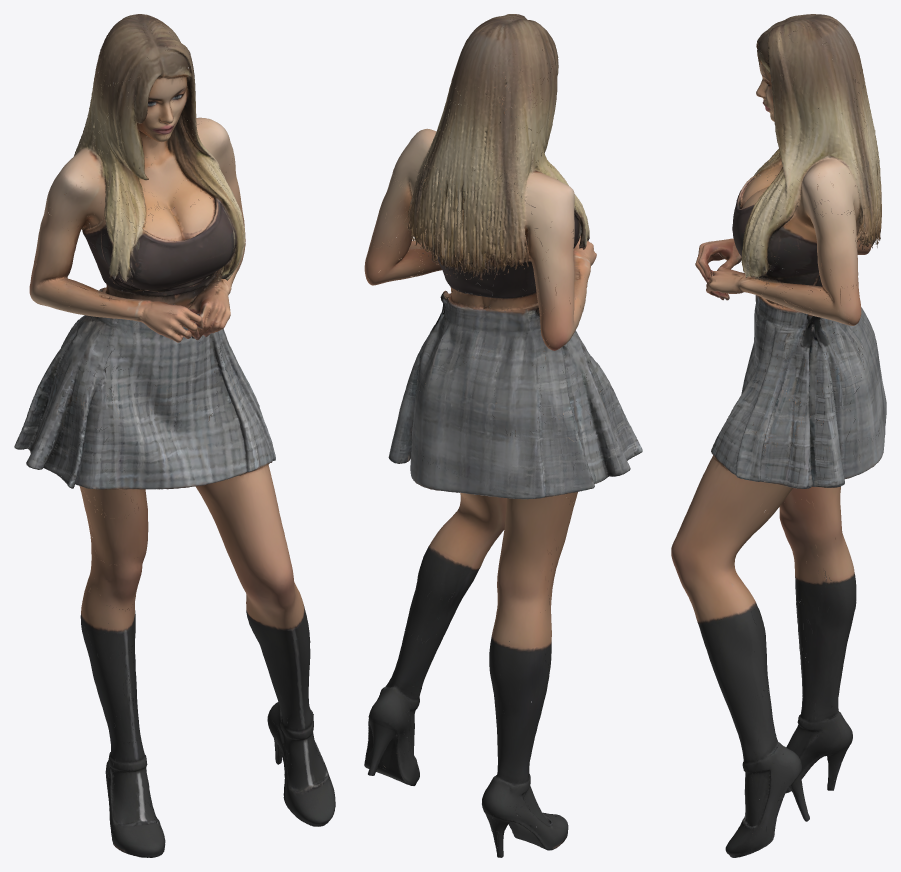
The model's file is skye.glb.
The picture shows the model from 3 angles, left to right: view 1: azimuth 30°, elevation 25°; view 2: azimuth 150°, elevation 25°; view 3: azimuth 270°, elevation 25°; orthographic projection. The views are drawn at different scales.
Visible parts, largest first — view 1: Object_4, Object_5, Object_7, Object_6; view 2: Object_5, Object_6, Object_4, Object_7; view 3: Object_5, Object_4, Object_7, Object_6.
Part boxes in pixels (x1,y1,x2,y2): Object_4: [21, 65, 335, 857]; Object_5: [14, 14, 330, 856]; Object_7: [26, 16, 287, 843]; Object_6: [15, 14, 242, 807]; Object_5: [364, 14, 636, 850]; Object_6: [368, 17, 603, 857]; Object_4: [364, 49, 642, 850]; Object_7: [364, 15, 630, 850]; Object_5: [749, 14, 885, 850]; Object_4: [671, 52, 880, 857]; Object_7: [765, 15, 826, 821]; Object_6: [775, 19, 886, 790].
Bounding box in the file's own units: 0.6828 × 1.9 × 0.4781.
1 material, 1 textured.
